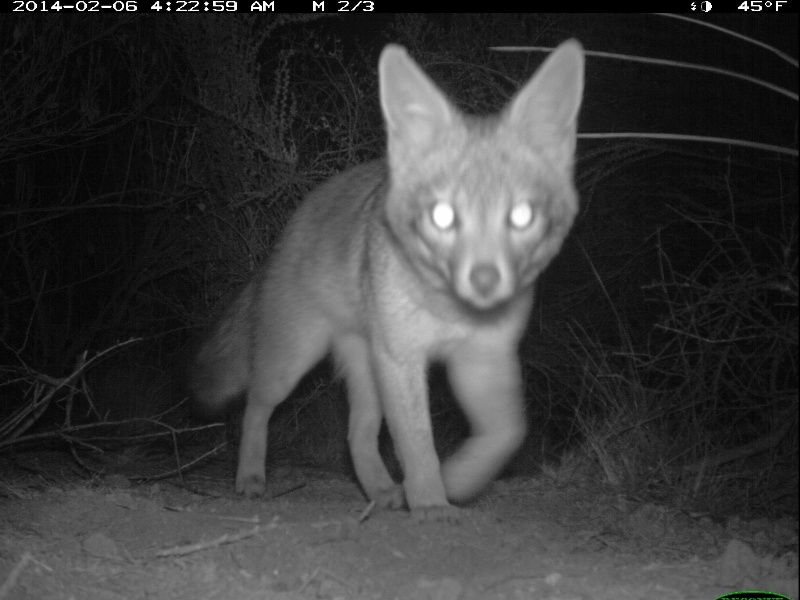fox: (206, 37, 590, 506)
